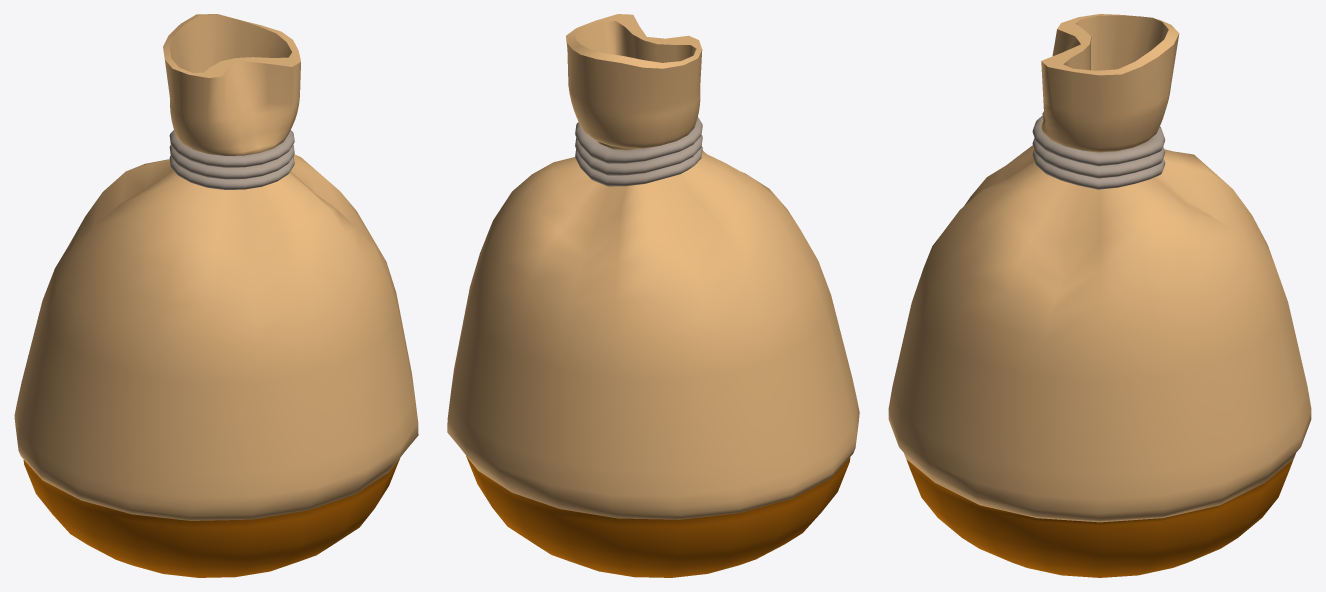
Rendered from Bourse_magique.fbx.
3 renders of one model, left to right at view 1: azimuth 30°, elevation 25°; view 2: azimuth 150°, elevation 25°; view 3: azimuth 270°, elevation 25°, orthographic. The views are drawn at different scales.
Parts seen in each view (by area): view 1: ZLD_MOD_MAGIC_POWDER_P:Bourse_magique, ZLD_MOD_MAGIC_POWDER_P:corde_3, ZLD_MOD_MAGIC_POWDER_P:corde_4, ZLD_MOD_MAGIC_POWDER_P:corde_5; view 2: ZLD_MOD_MAGIC_POWDER_P:Bourse_magique, ZLD_MOD_MAGIC_POWDER_P:corde_3, ZLD_MOD_MAGIC_POWDER_P:corde_4, ZLD_MOD_MAGIC_POWDER_P:corde_5; view 3: ZLD_MOD_MAGIC_POWDER_P:Bourse_magique, ZLD_MOD_MAGIC_POWDER_P:corde_3, ZLD_MOD_MAGIC_POWDER_P:corde_4, ZLD_MOD_MAGIC_POWDER_P:corde_5.
Part boxes in pixels (x1=…): ZLD_MOD_MAGIC_POWDER_P:Bourse_magique: x1=14, y1=14, x2=418, y2=577; ZLD_MOD_MAGIC_POWDER_P:corde_3: x1=169, y1=130, x2=294, y2=167; ZLD_MOD_MAGIC_POWDER_P:corde_4: x1=169, y1=145, x2=294, y2=179; ZLD_MOD_MAGIC_POWDER_P:corde_5: x1=169, y1=156, x2=294, y2=189; ZLD_MOD_MAGIC_POWDER_P:Bourse_magique: x1=447, y1=14, x2=859, y2=577; ZLD_MOD_MAGIC_POWDER_P:corde_3: x1=575, y1=117, x2=702, y2=163; ZLD_MOD_MAGIC_POWDER_P:corde_4: x1=575, y1=135, x2=702, y2=175; ZLD_MOD_MAGIC_POWDER_P:corde_5: x1=575, y1=146, x2=702, y2=186; ZLD_MOD_MAGIC_POWDER_P:Bourse_magique: x1=888, y1=14, x2=1311, y2=577; ZLD_MOD_MAGIC_POWDER_P:corde_3: x1=1032, y1=116, x2=1165, y2=166; ZLD_MOD_MAGIC_POWDER_P:corde_4: x1=1032, y1=138, x2=1165, y2=178; ZLD_MOD_MAGIC_POWDER_P:corde_5: x1=1032, y1=150, x2=1165, y2=189.
Bounding box in the file's own units: 2.16 × 2.97 × 2.14.
